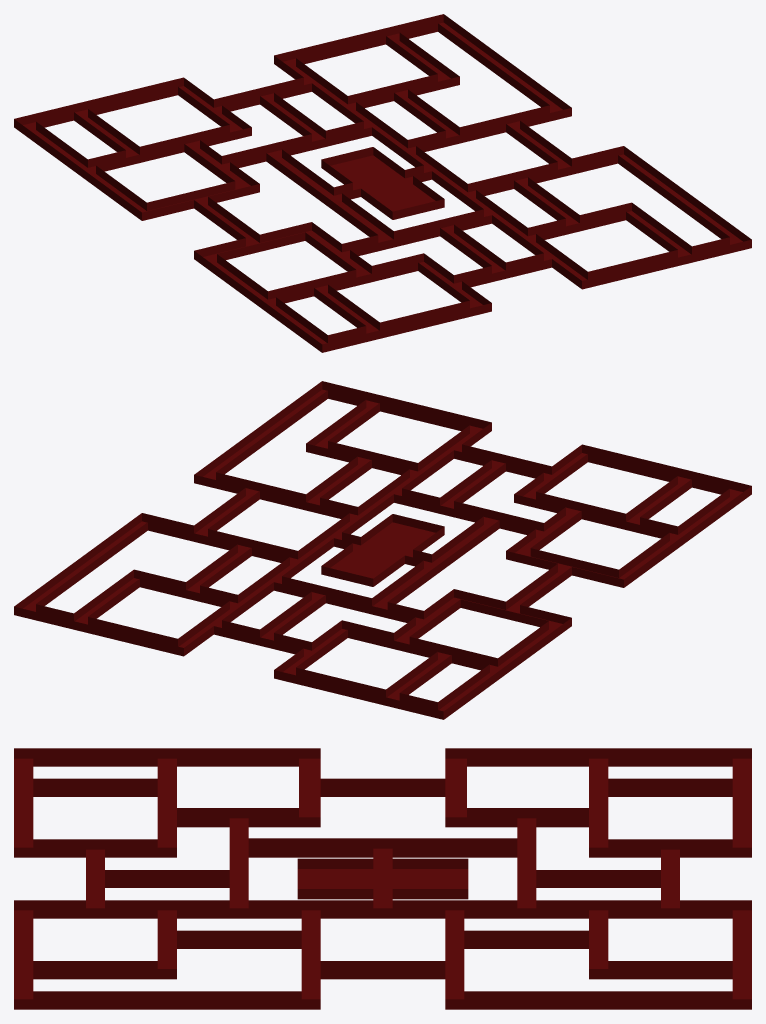
File: map _colider.fbx
The picture shows the model from 3 angles, top to bottom: view 1: azimuth 30°, elevation 25°; view 2: azimuth 150°, elevation 25°; view 3: azimuth 270°, elevation 25°; orthographic projection. The views are drawn at different scales.
Parts seen in each view (by area): view 1: pasted__colider; view 2: pasted__colider; view 3: pasted__colider.
Boxes of the visible parts, box(x1,y1,x2,y2) form: pasted__colider: box(14, 14, 751, 352); pasted__colider: box(14, 381, 751, 719); pasted__colider: box(14, 748, 751, 1009).
Size of the model in its own units: 248 by 4.69 by 308.
